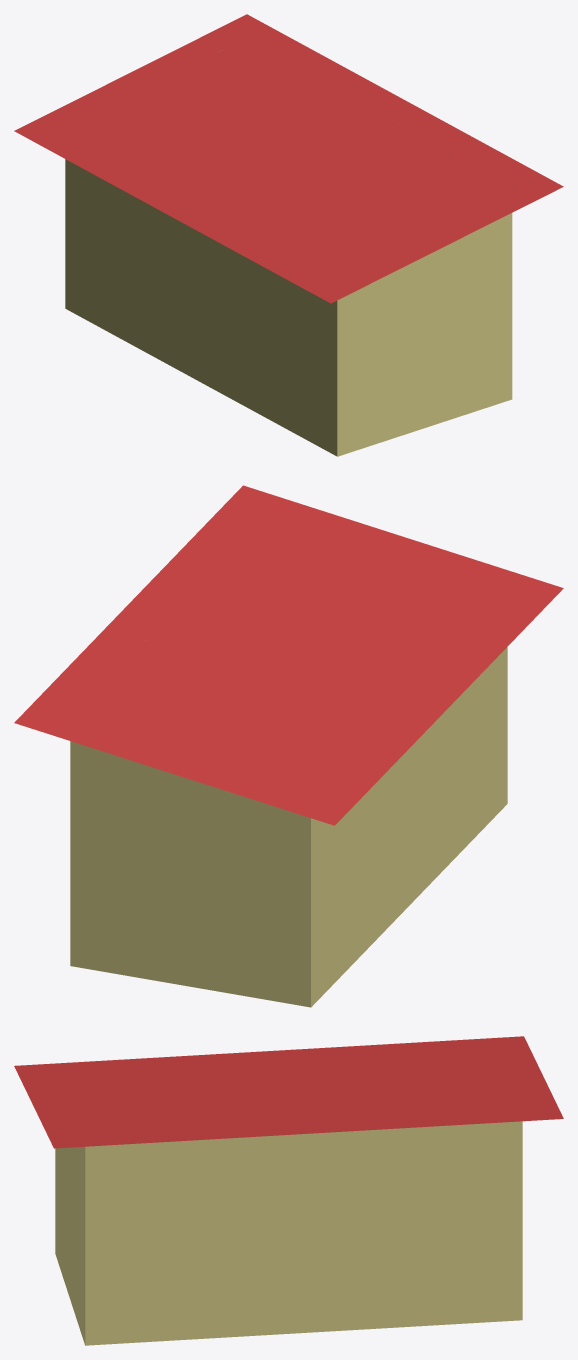
3 renders of one model, top to bottom at view 1: azimuth 30°, elevation 25°; view 2: azimuth 150°, elevation 25°; view 3: azimuth 270°, elevation 25°, orthographic. The views are drawn at different scales.
Bounding box in the file's own units: 9.88 × 15.04 × 6.48.
